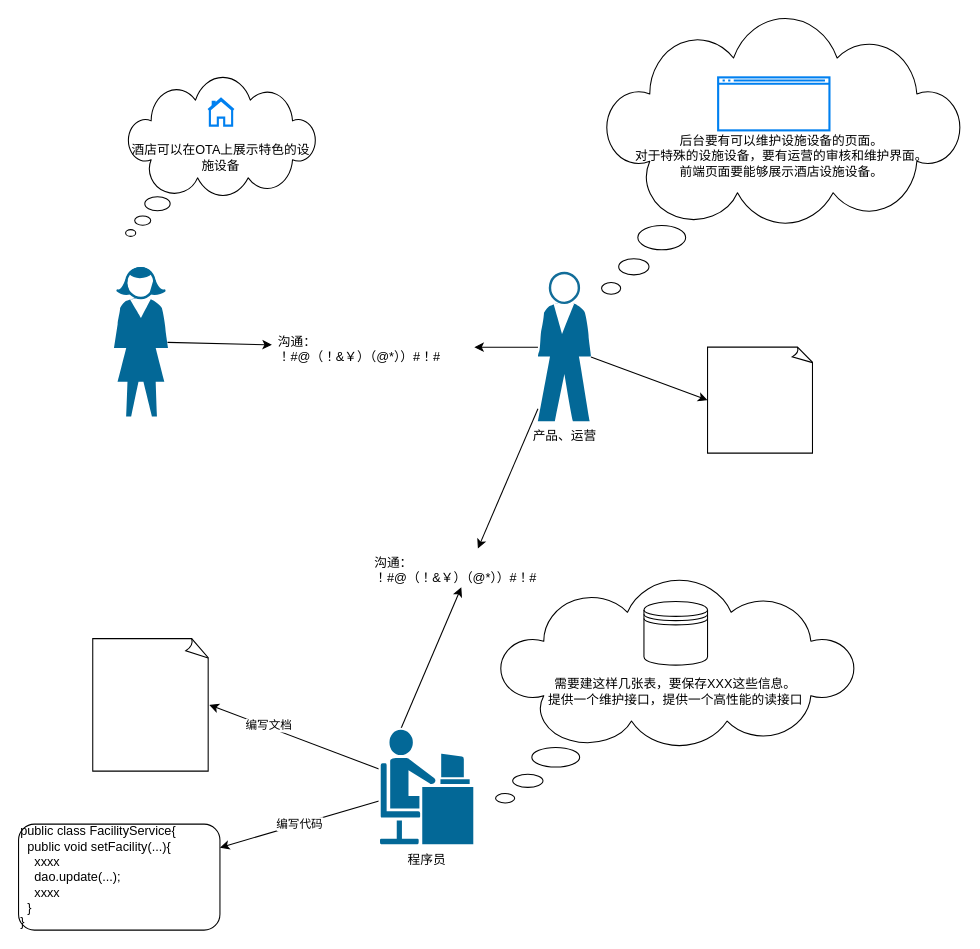
Some shapes in this 980 by 949 pixel diagram are drawn without their labels. Here are the shapes that lost their labels. From the top down, the centre of each, then its label:
At point (140, 342): "领域专家".
At point (760, 399): "User Story / PRD 需求文档".
At point (150, 704): "XXX设计文档 数据库ER设计 接口设计 非功能性设计".
